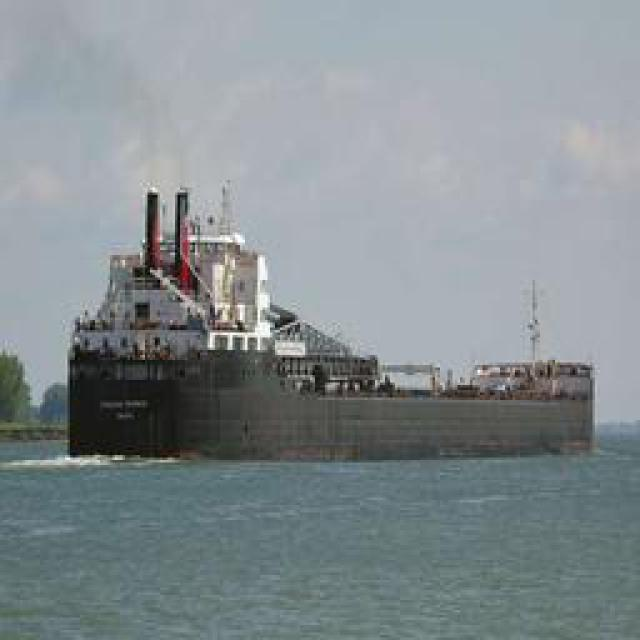Ship: (70, 169, 408, 434)
